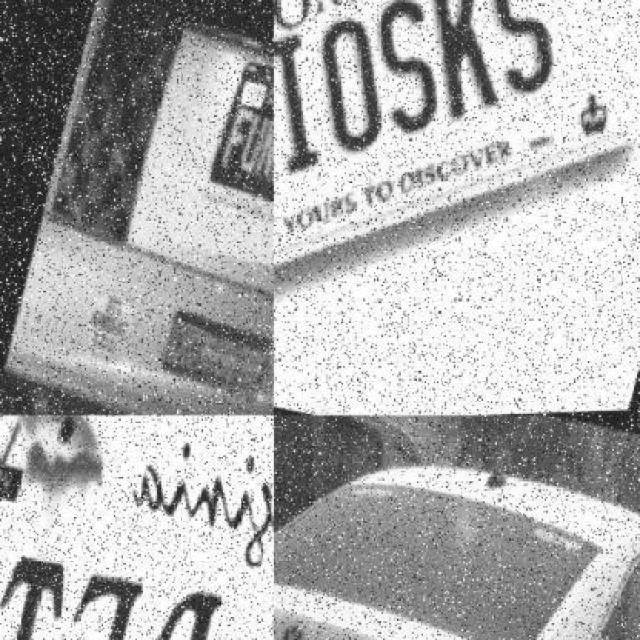licenseplate: (274, 0, 586, 282), (0, 500, 274, 640), (211, 63, 274, 226)
